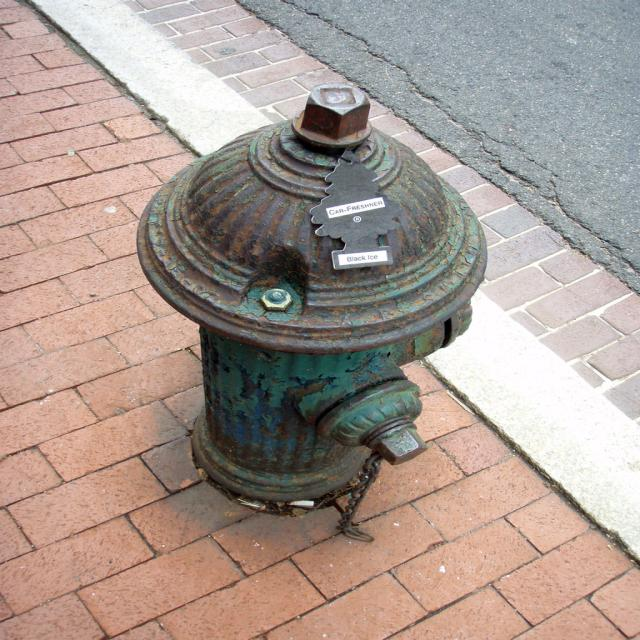fire_hydrant: (136, 85, 487, 505)
